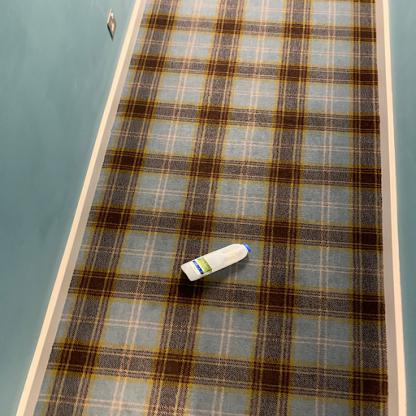trash: (179, 243, 252, 281)
